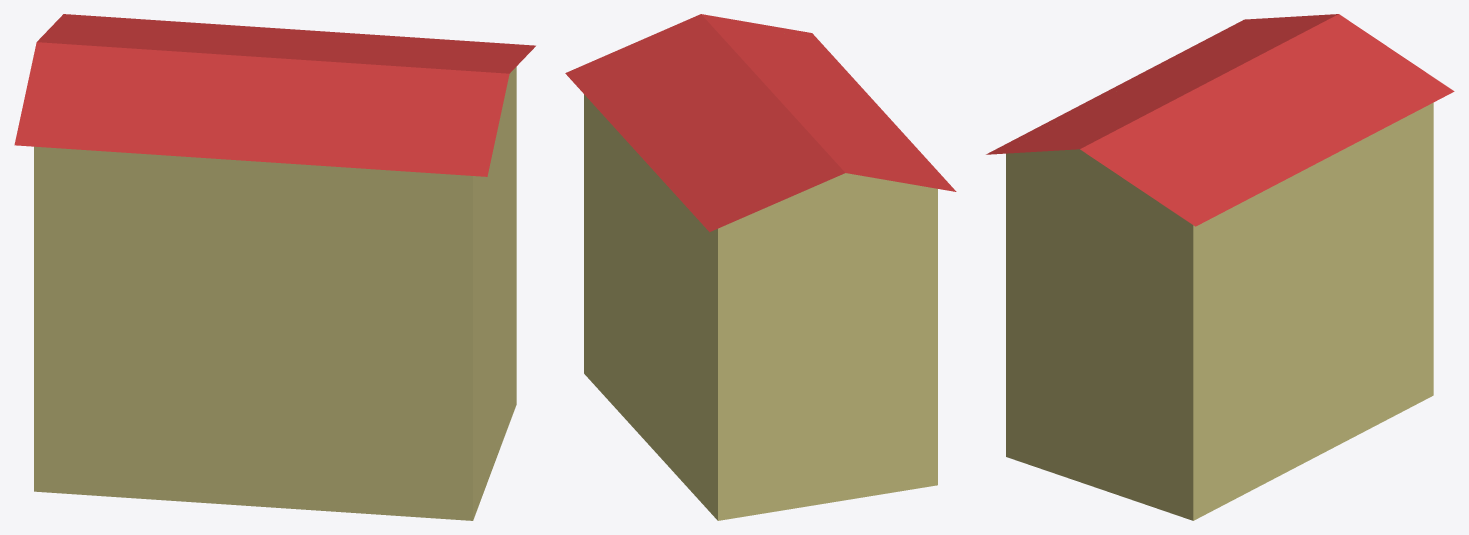
3 views of the same model, side by side, from view 1: azimuth 30°, elevation 25°; view 2: azimuth 150°, elevation 25°; view 3: azimuth 270°, elevation 25° (orthographic). The views are drawn at different scales.
Parts seen in each view (by area): view 1: group_5, group_3, group_4; view 2: group_5, group_3, group_4; view 3: group_5, group_3, group_4.
Part boxes in pixels (bbox=[...]): group_5: bbox=[34, 67, 516, 520]; group_3: bbox=[14, 14, 535, 163]; group_4: bbox=[16, 40, 509, 176]; group_5: bbox=[584, 94, 937, 520]; group_3: bbox=[565, 14, 956, 232]; group_4: bbox=[682, 14, 955, 190]; group_5: bbox=[1006, 102, 1433, 520]; group_3: bbox=[1006, 14, 1454, 226]; group_4: bbox=[986, 14, 1340, 157].
Size of the model in its own units: 8.25 by 7.89 by 6.33.
